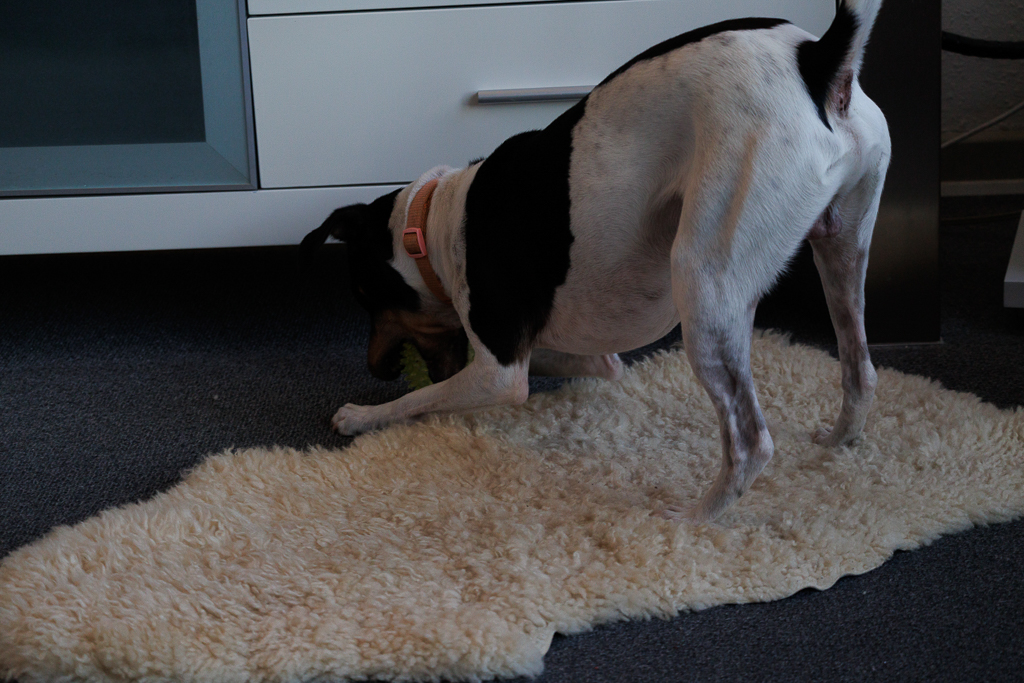Dog: (277, 0, 904, 531)
